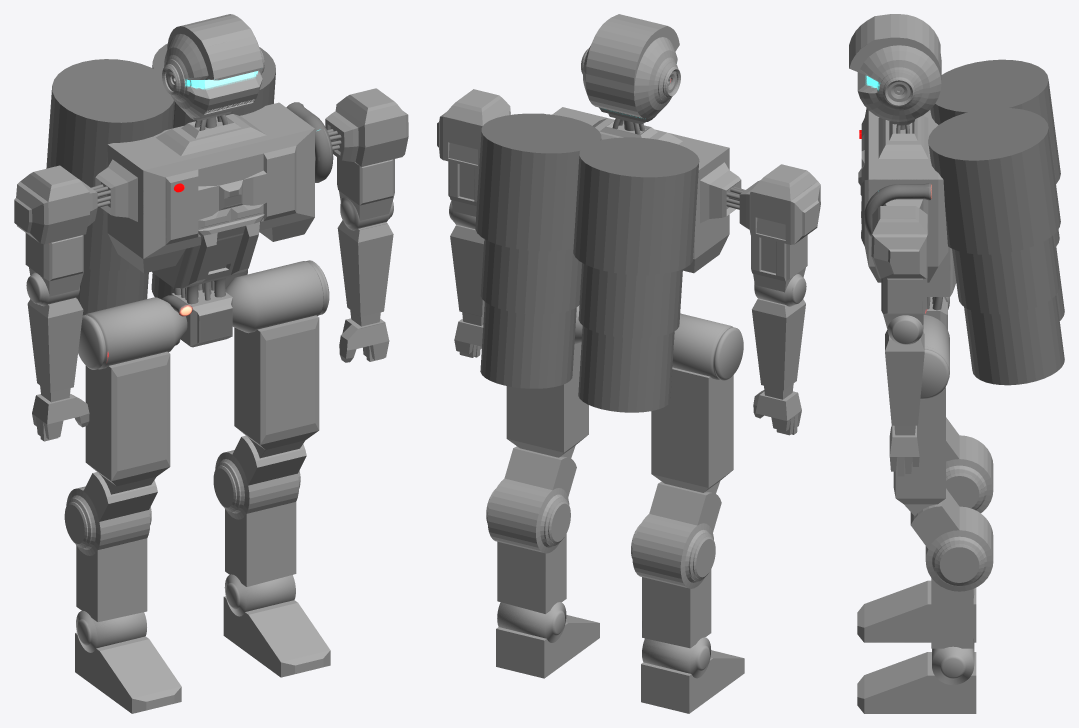
Rendered from Meca Scout Unit.fbx.
The picture shows the model from 3 angles, left to right: view 1: azimuth 30°, elevation 25°; view 2: azimuth 150°, elevation 25°; view 3: azimuth 270°, elevation 25°; orthographic projection. The views are drawn at different scales.
Parts seen in each view (by area): view 1: Mechanical Infantryman ECS; view 2: Mechanical Infantryman ECS; view 3: Mechanical Infantryman ECS.
Part boxes in pixels (box(x1,y1,x2,y2)): Mechanical Infantryman ECS: box(14, 14, 408, 713); Mechanical Infantryman ECS: box(437, 14, 820, 713); Mechanical Infantryman ECS: box(849, 14, 1064, 713).
Size of the model in its own units: 126 by 209 by 63.69.
